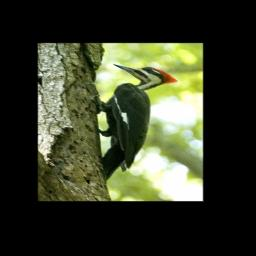Woodpecker: (95, 64, 179, 181)
